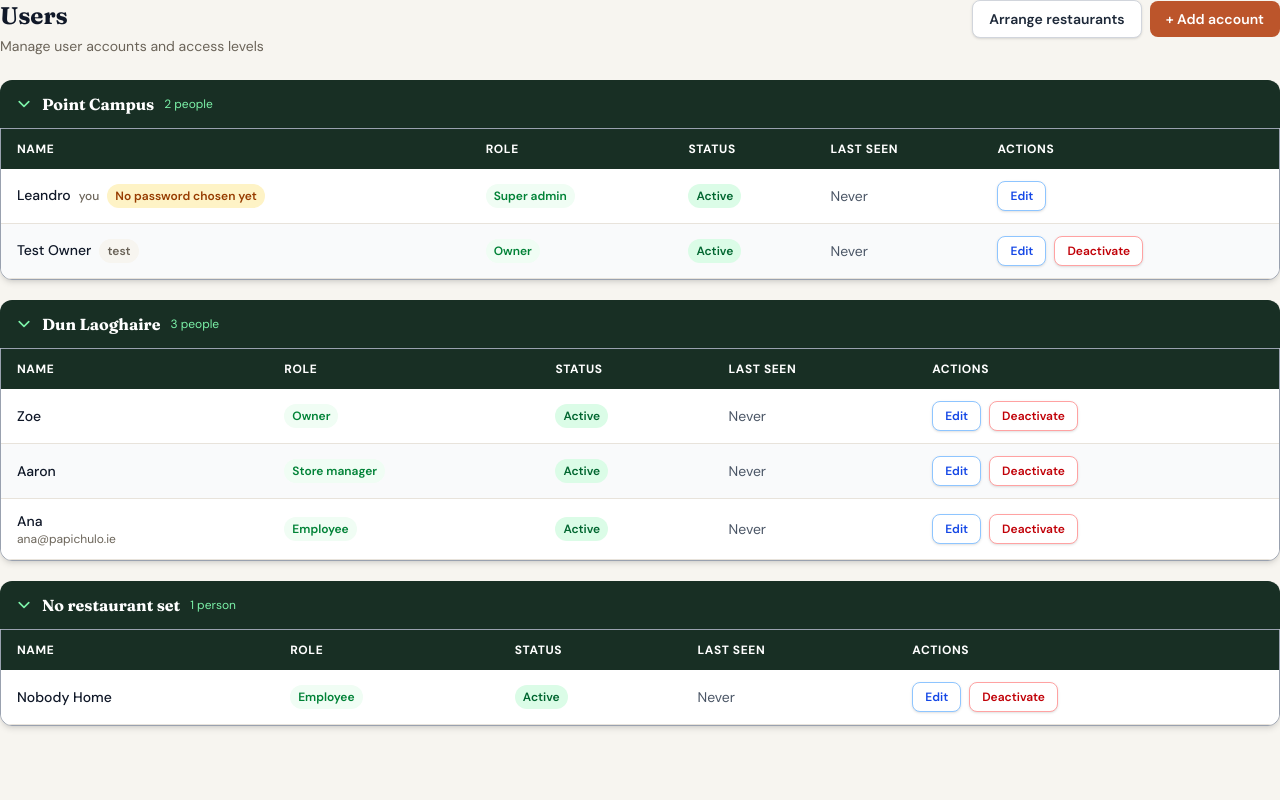
it: adding an account › edits an account through the function, with its email filled in
The image size is (1280, 800).
Click the button "Edit" in the row of "ana@papichulo.ie": x=957, y=529 [932,514,981,544]
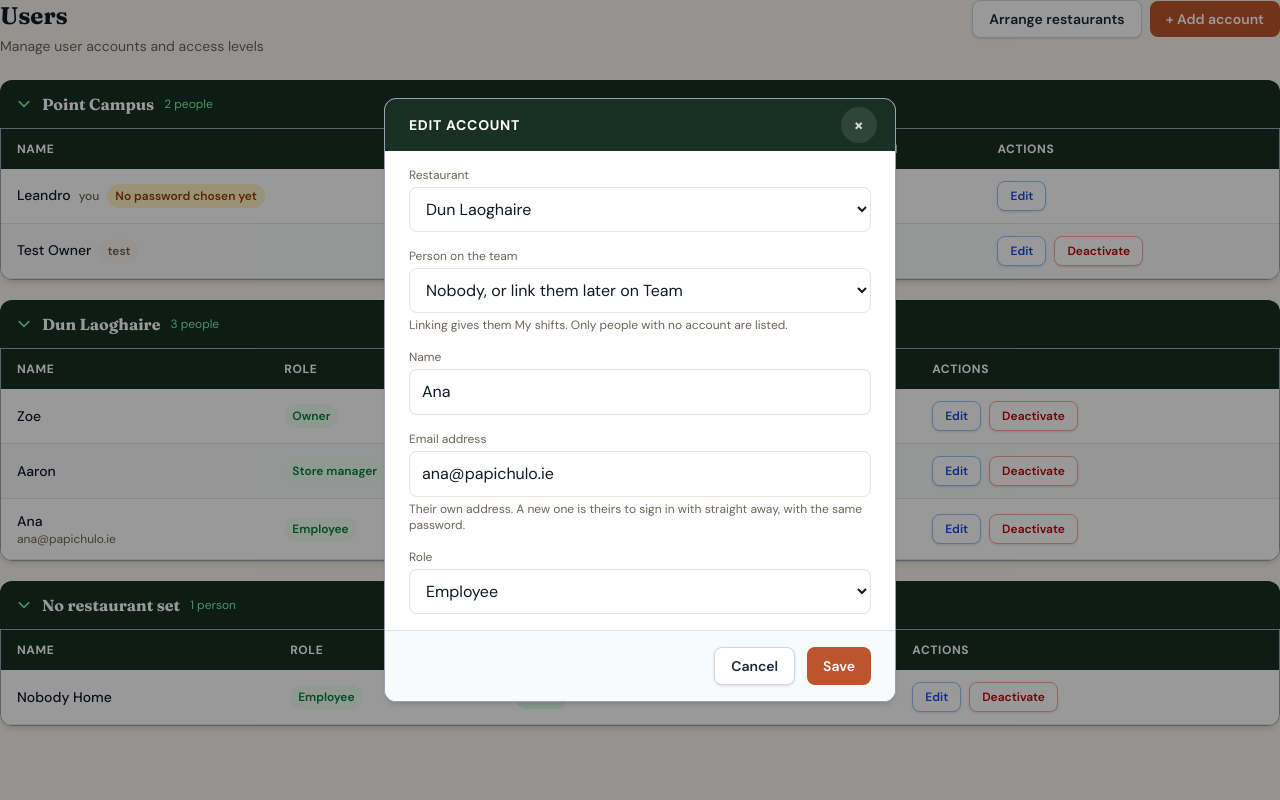
expect the dialog "Edit account" is shown: met, box [384,98,896,702]
expect the dropdown labelled "Restaurant" shows "Dun Laoghaire": met, box [409,187,871,232]
expect the field labelled "Email address" holds "ana@papichulo.ie": met
Replace the text in the field labelled "Email address" with "ana.silva@papichulo.ie": x=640, y=474 [409,451,871,497]
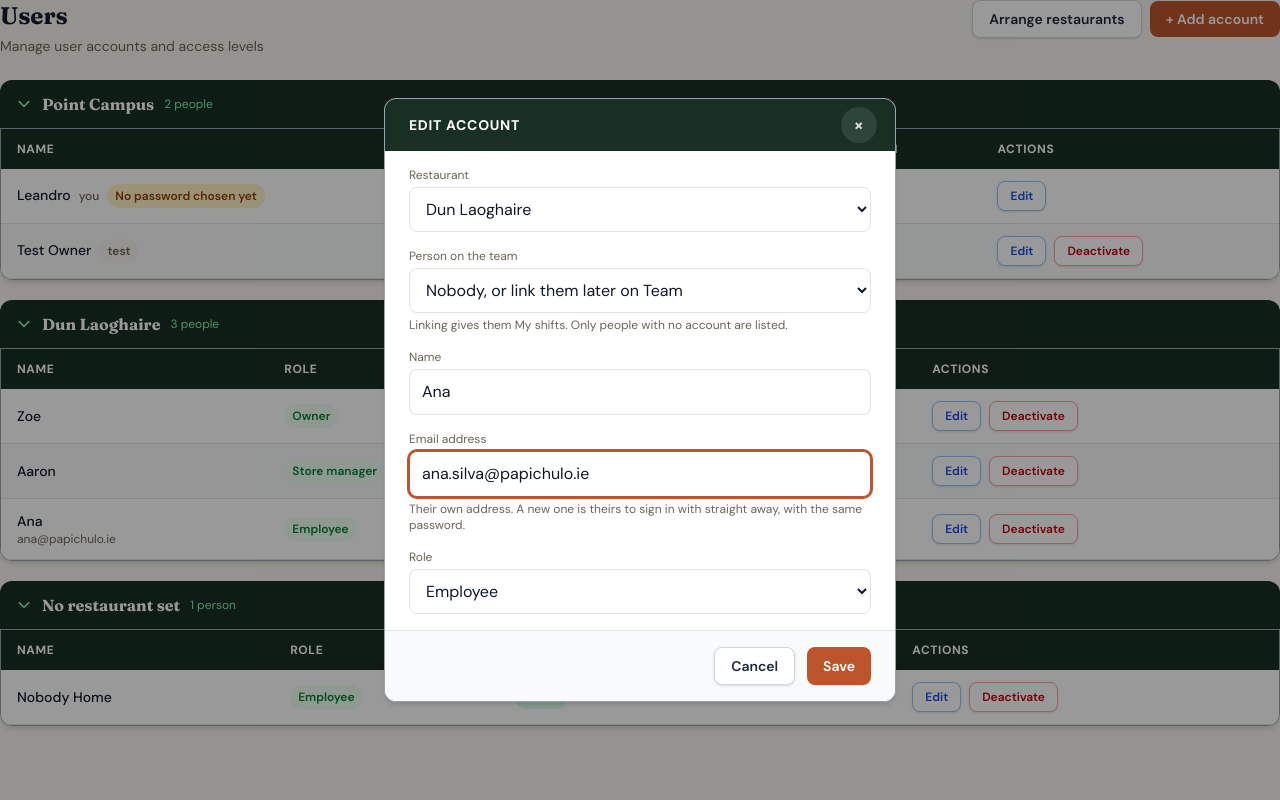
Select "Store manager" in the dropdown labelled "Role": x=640, y=592 [409,569,871,614]
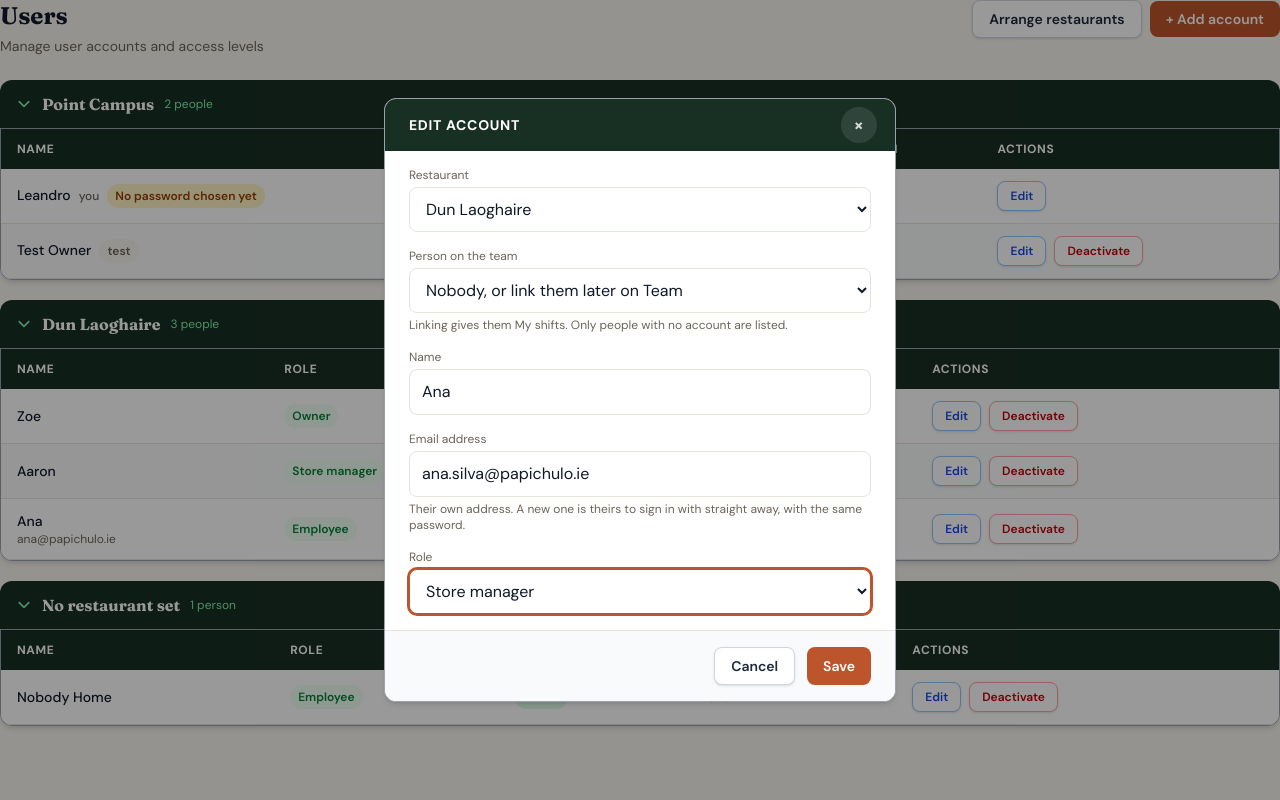
Click the button "Save": x=839, y=666 [807,647,871,685]
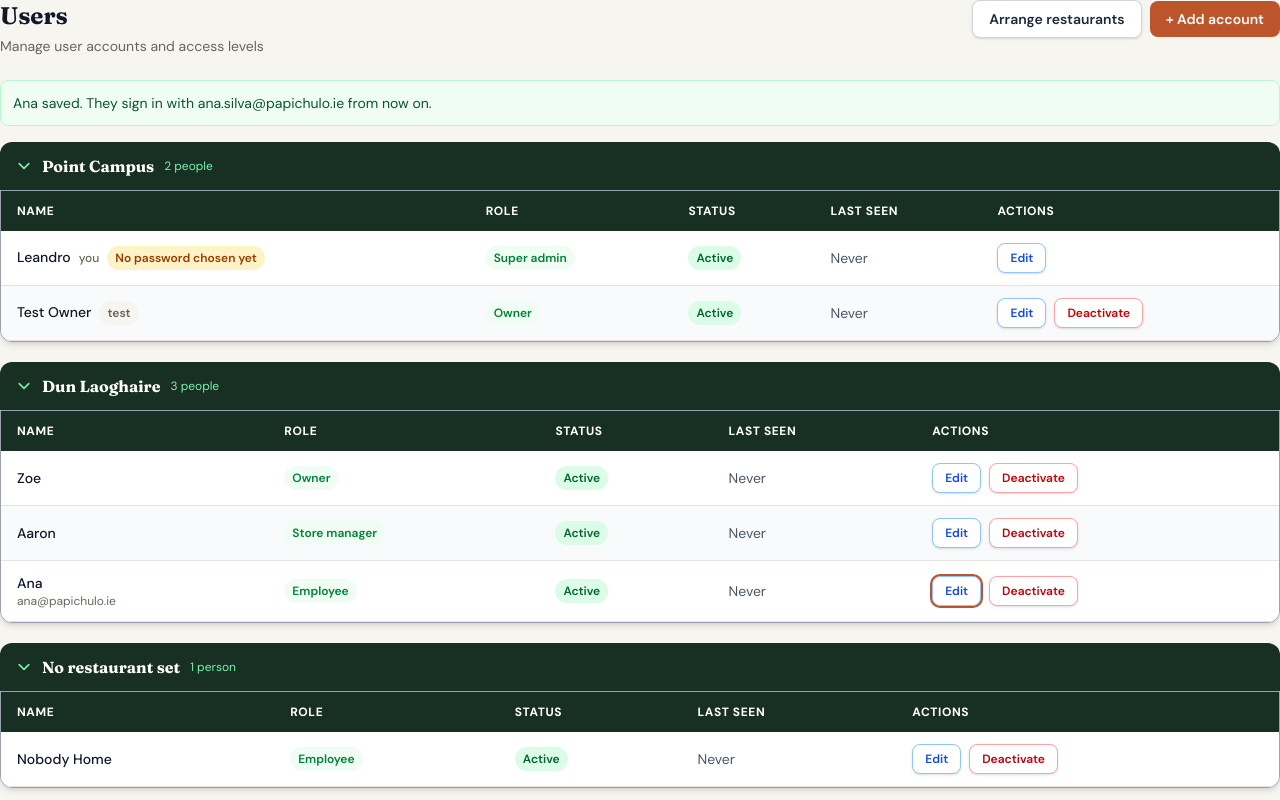
expect the text "Ana saved. They sign in with ana.silva@papichulo.ie from now on." is shown: met, box [0,80,1279,126]
